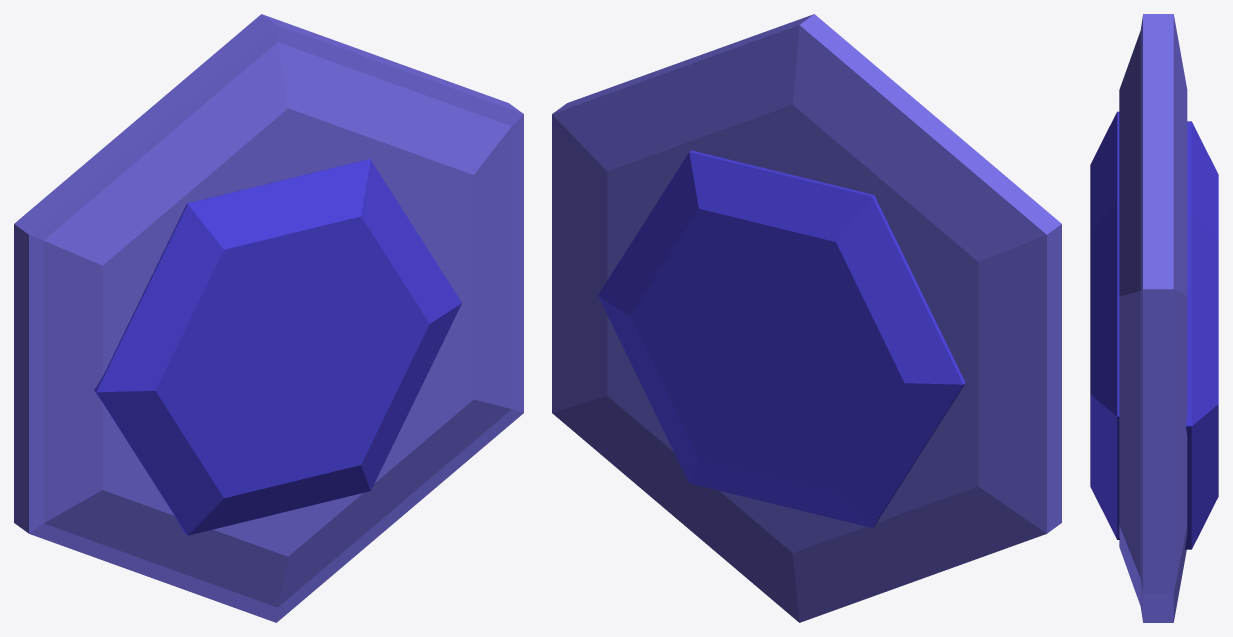
The model's file is sheld.fbx.
3 views of the same model, side by side, from view 1: azimuth 30°, elevation 25°; view 2: azimuth 150°, elevation 25°; view 3: azimuth 270°, elevation 25° (orthographic).
Parts seen in each view (by area): view 1: mergedBlocks; view 2: mergedBlocks; view 3: mergedBlocks.
Part boxes in pixels (<box>): mergedBlocks: <box>14,14,523,622</box>; mergedBlocks: <box>552,14,1061,622</box>; mergedBlocks: <box>1090,14,1218,622</box>.
Size of the model in its own units: 10 by 11.55 by 2.21.
